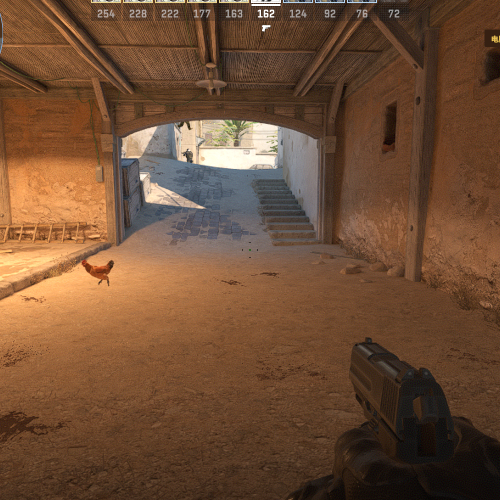chicken: (81, 259, 115, 285)
ct_body: (184, 148, 194, 164)
